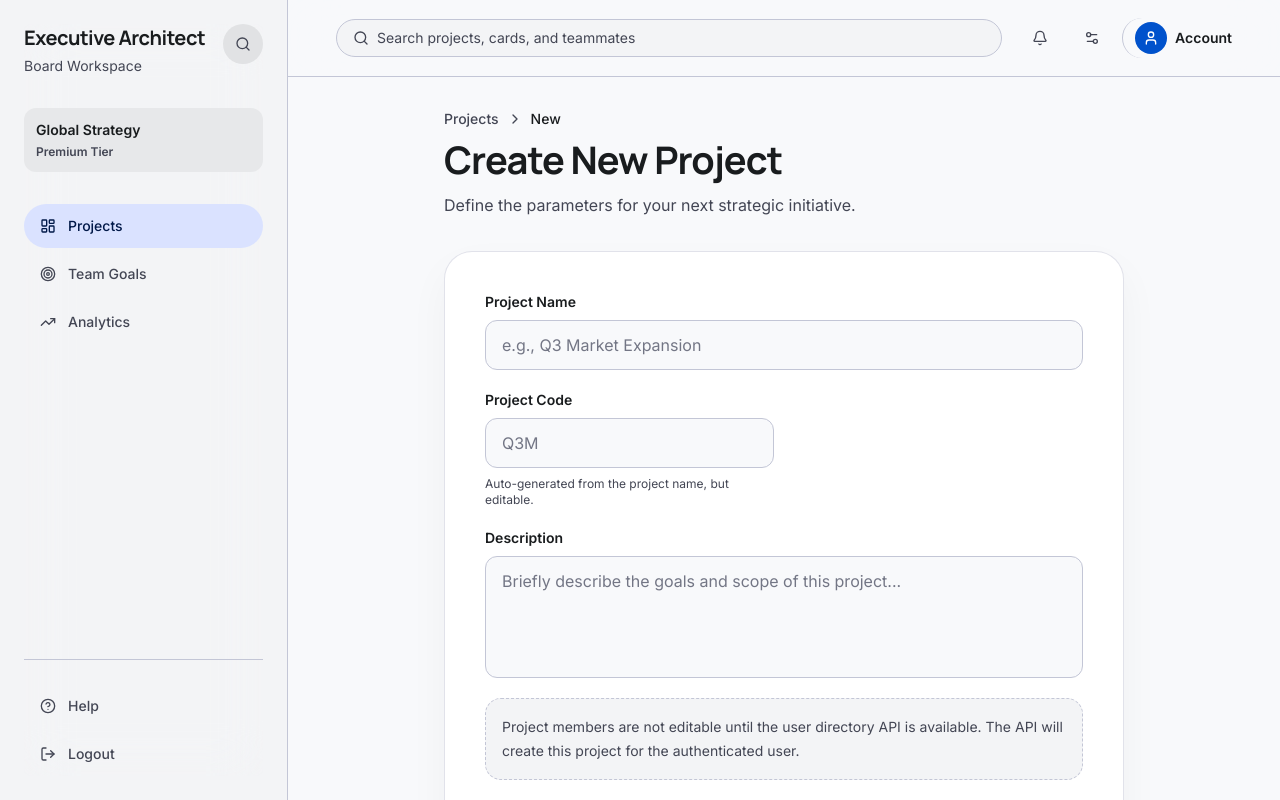
Scenario: CreateProjectPage › keeps form input and shows an inline error when creation fails
The image size is (1280, 800).
Type "Failed Project" into the field labelled "Project Name". click: (784, 345)
box: [485,320,1083,370]
(page scrolled)
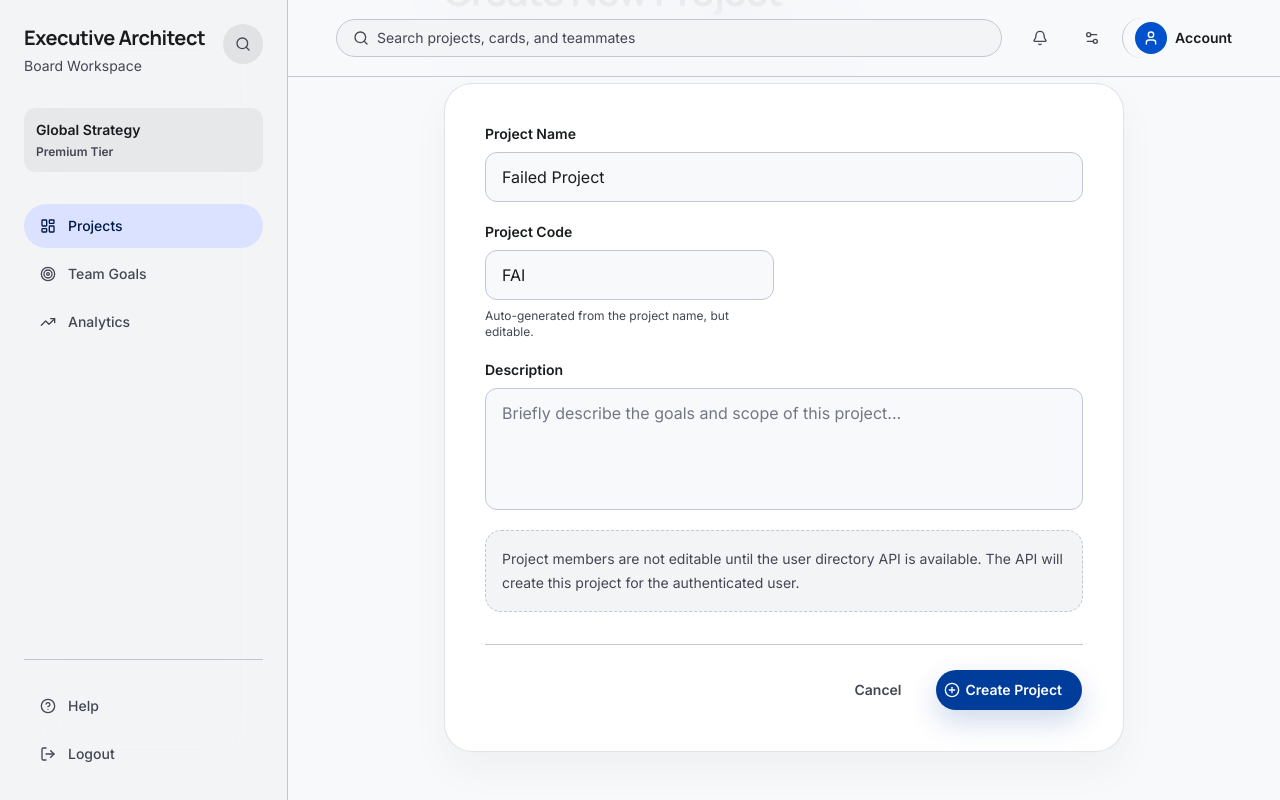
Submit the form named "create project", box [485,124,1083,711]
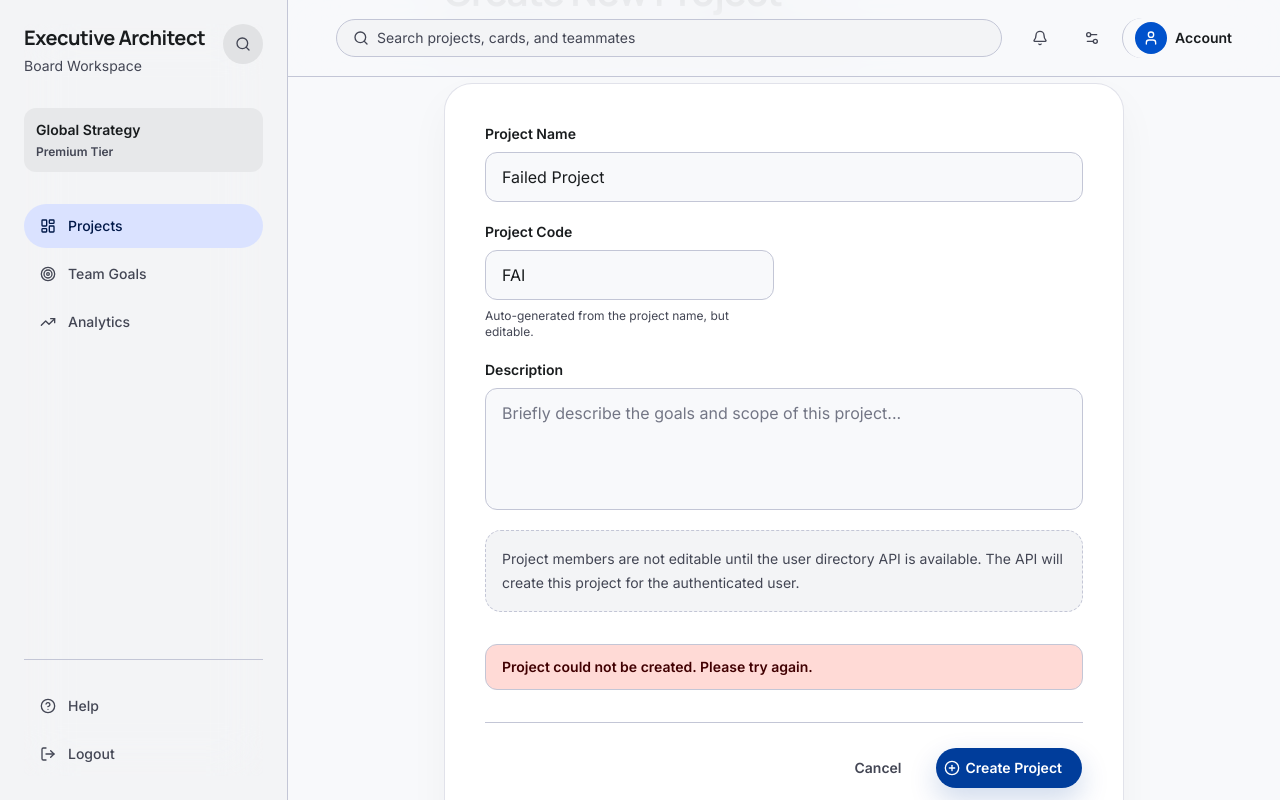
Now the text "Project could not be created. Please try again." is shown, box [485,644,1083,690]
